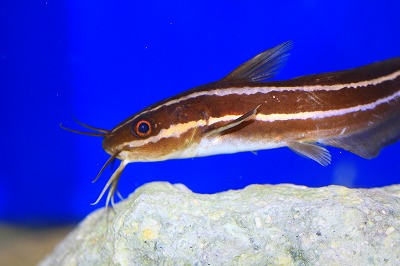gonzui: (90, 52, 400, 179)
